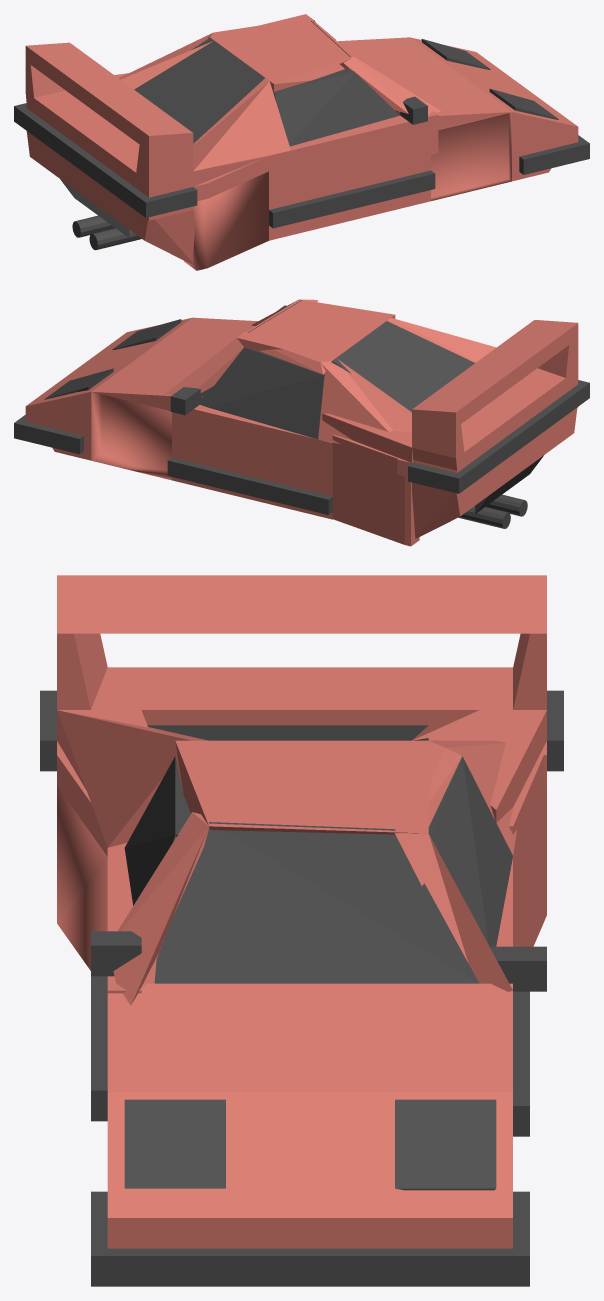
The model's file is RaceCarNoWheels.fbx.
3 views of the same model, one above another, from view 1: azimuth 30°, elevation 25°; view 2: azimuth 150°, elevation 25°; view 3: azimuth 270°, elevation 25° (orthographic). The views are drawn at different scales.
Parts seen in each view (by area): view 1: mesh_1388350157, mesh_956056105, mesh_198852036, mesh_102746035, mesh_2031158171, mesh_2123852984, mesh_275570896, mesh_2092262242, mesh_1923211778, mesh_99300831, mesh_243197295, mesh_1650314569 (+16 smaller); view 2: mesh_1388350157, mesh_1449298864, mesh_840051402, mesh_198852036, mesh_102746035, mesh_2031158171, mesh_38904309, mesh_275570896, mesh_99300831, mesh_1650314569, mesh_1226397984, mesh_243197295 (+21 smaller); view 3: mesh_2031158171, mesh_109924994, mesh_1388350157, mesh_198852036, mesh_275570896, mesh_1650314569, mesh_875376599, mesh_344841023, mesh_398477270, mesh_1923211778, mesh_1825421313, mesh_1449298864 (+20 smaller).
Part boxes in pixels (x1,y1,x2,y2): mesh_1388350157: [395, 37, 577, 200]; mesh_956056105: [269, 111, 438, 194]; mesh_198852036: [25, 42, 192, 150]; mesh_102746035: [134, 37, 264, 143]; mesh_2031158171: [337, 37, 511, 131]; mesh_2123852984: [184, 156, 268, 270]; mesh_275570896: [210, 14, 353, 94]; mesh_2092262242: [274, 69, 399, 146]; mesh_1923211778: [193, 78, 290, 171]; mesh_99300831: [26, 131, 194, 264]; mesh_243197295: [269, 155, 430, 240]; mesh_1650314569: [25, 90, 139, 178]; mesh_1388350157: [26, 317, 203, 480]; mesh_1449298864: [200, 347, 324, 439]; mesh_840051402: [332, 435, 419, 546]; mesh_198852036: [412, 320, 578, 427]; mesh_102746035: [332, 321, 474, 411]; mesh_2031158171: [91, 317, 257, 410]; mesh_38904309: [172, 405, 325, 479]; mesh_275570896: [237, 299, 395, 360]; mesh_99300831: [412, 408, 577, 538]; mesh_1650314569: [412, 373, 561, 500]; mesh_1226397984: [318, 359, 411, 444]; mesh_243197295: [172, 435, 332, 519]; mesh_2031158171: [107, 983, 512, 1092]; mesh_109924994: [154, 822, 479, 983]; mesh_1388350157: [107, 1092, 512, 1217]; mesh_198852036: [57, 575, 546, 633]; mesh_275570896: [175, 740, 428, 834]; mesh_1650314569: [124, 667, 512, 725]; mesh_875376599: [91, 1227, 529, 1286]; mesh_344841023: [107, 1218, 512, 1248]; mesh_398477270: [395, 1099, 496, 1190]; mesh_1923211778: [57, 710, 207, 847]; mesh_1825421313: [124, 1099, 225, 1188]; mesh_1449298864: [428, 756, 512, 946].
Size of the model in its own units: 310 by 101 by 155.
